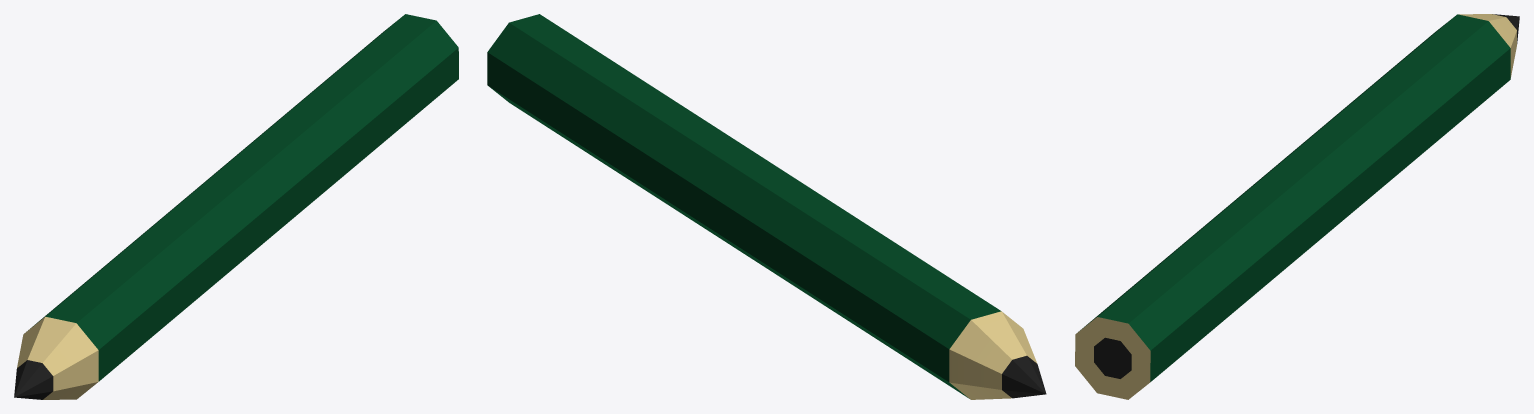
The picture shows the model from 3 angles, left to right: view 1: azimuth 90°, elevation 25°; view 2: azimuth 150°, elevation 25°; view 3: azimuth 270°, elevation 25°; orthographic projection. The views are drawn at different scales.
Parts seen in each view (by area): view 1: Joint_0_Object_0; view 2: Joint_0_Object_0; view 3: Joint_0_Object_0.
Boxes of the visible parts, left/top/right/bottom form: Joint_0_Object_0: left=14, top=14, right=458, bottom=399; Joint_0_Object_0: left=487, top=14, right=1046, bottom=399; Joint_0_Object_0: left=1075, top=14, right=1519, bottom=399.
Bounding box in the file's own units: 196 × 20 × 105.
